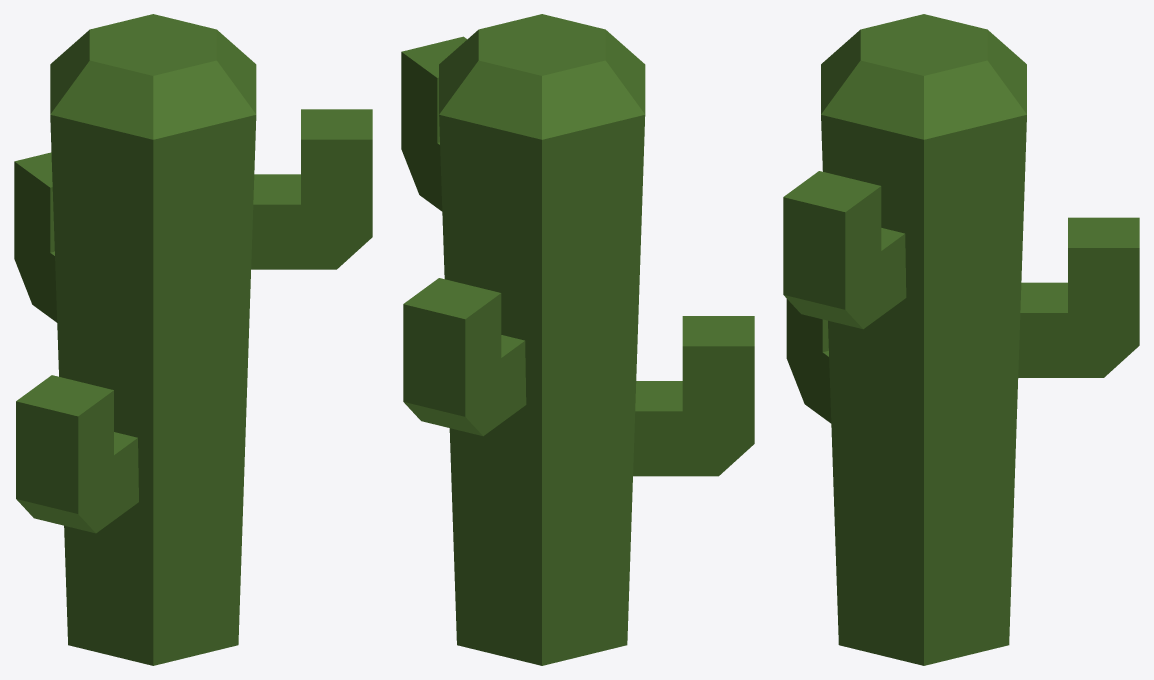
Rendered from cactus_short.fbx.
The picture shows the model from 3 angles, left to right: view 1: azimuth 30°, elevation 25°; view 2: azimuth 150°, elevation 25°; view 3: azimuth 270°, elevation 25°; orthographic projection.
Parts seen in each view (by area): view 1: cactus_short; view 2: cactus_short; view 3: cactus_short.
Boxes of the visible parts, x1,y1,x2,y2 form: cactus_short: (14, 14, 372, 665); cactus_short: (401, 14, 754, 665); cactus_short: (783, 14, 1139, 665).
Size of the model in its own units: 1.03 by 1.6 by 0.8925.
